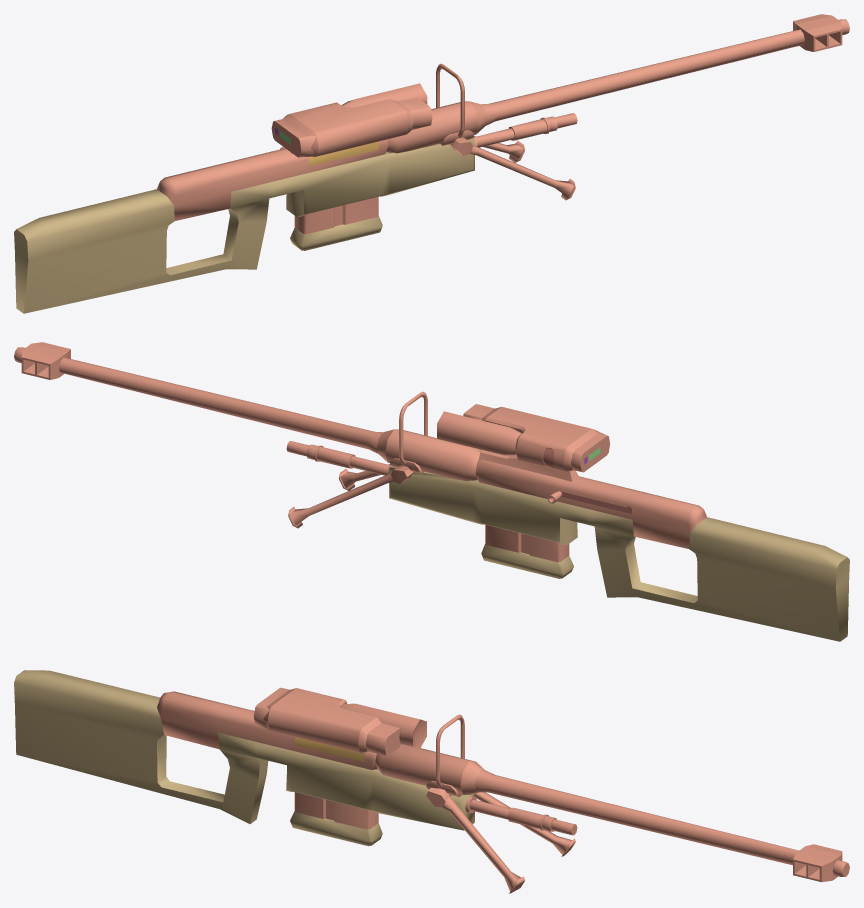
The model's file is sniperrifle.fbx.
3 renders of one model, top to bottom at view 1: azimuth 30°, elevation 25°; view 2: azimuth 150°, elevation 25°; view 3: azimuth 330°, elevation 25°, orthographic.
Visible parts, largest first — view 1: unnamed base superhigh; view 2: unnamed base superhigh; view 3: unnamed base superhigh.
Part boxes in pixels (left/top/right/bottom): unnamed base superhigh: left=14, top=14, right=849, bottom=313; unnamed base superhigh: left=14, top=342, right=849, bottom=641; unnamed base superhigh: left=14, top=670, right=849, bottom=893.
Bounding box in the file's own units: 6191 × 1072 × 778.
